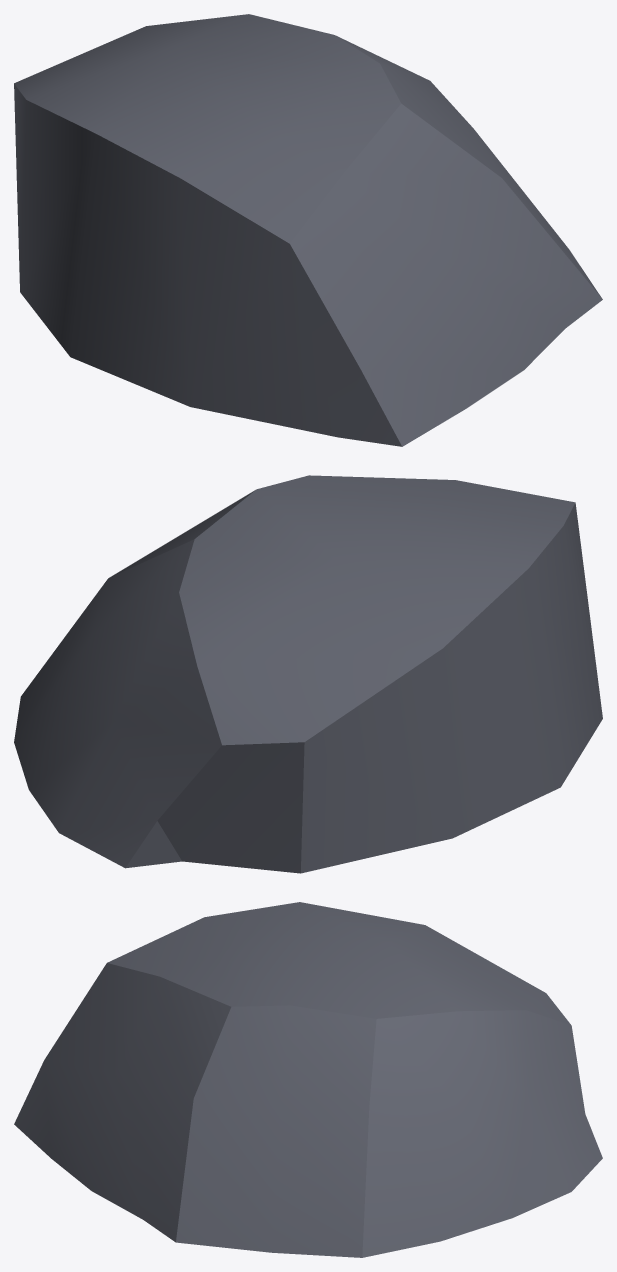
File: Rock_02.fbx
3 views of the same model, one above another, from view 1: azimuth 30°, elevation 25°; view 2: azimuth 150°, elevation 25°; view 3: azimuth 270°, elevation 25° (orthographic). The views are drawn at different scales.
Parts seen in each view (by area): view 1: Rock_02; view 2: Rock_02; view 3: Rock_02.
Part boxes in pixels (bbox=[...]): Rock_02: bbox=[14, 14, 602, 446]; Rock_02: bbox=[14, 475, 602, 873]; Rock_02: bbox=[14, 902, 602, 1257].
Size of the model in its own units: 3256 by 1429 by 4152.
Materials: 1 (1 with a texture image).
